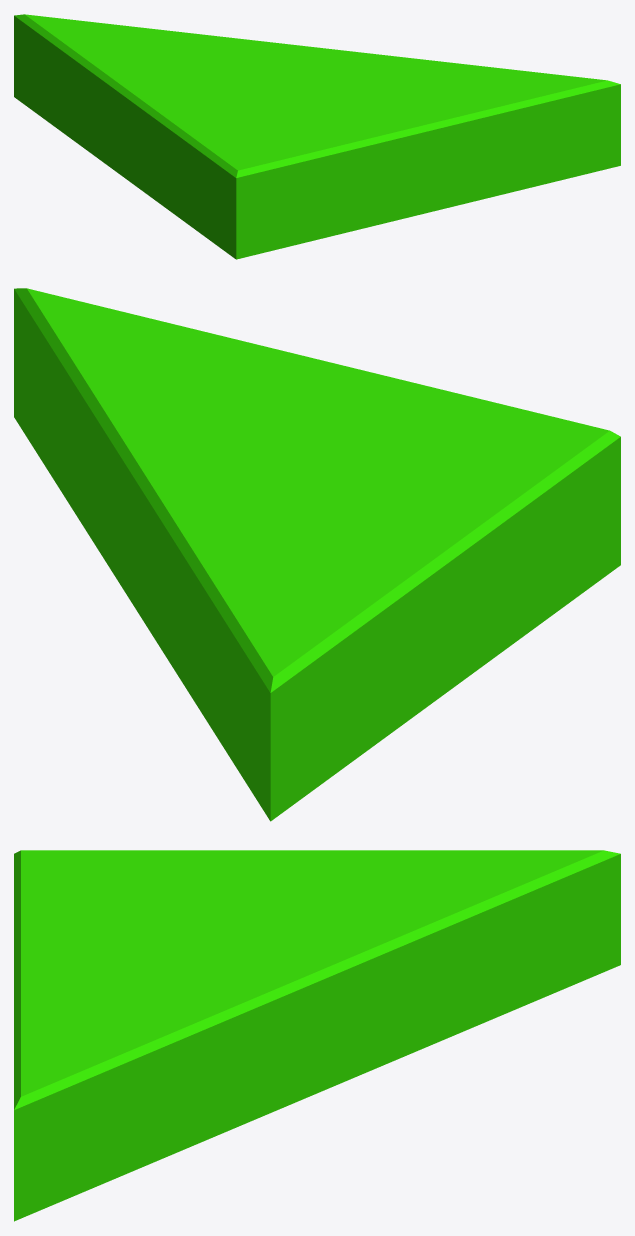
File: triangle_5x1.fbx
3 renders of one model, top to bottom at view 1: azimuth 30°, elevation 25°; view 2: azimuth 150°, elevation 25°; view 3: azimuth 270°, elevation 25°, orthographic. The views are drawn at different scales.
Parts seen in each view (by area): view 1: triangle_5x1; view 2: triangle_5x1; view 3: triangle_5x1.
Part boxes in pixels (x1=…): triangle_5x1: x1=14, y1=14, x2=620, y2=259; triangle_5x1: x1=14, y1=288, x2=620, y2=821; triangle_5x1: x1=14, y1=850, x2=620, y2=1221.
Size of the model in its own units: 524 by 112 by 524.
